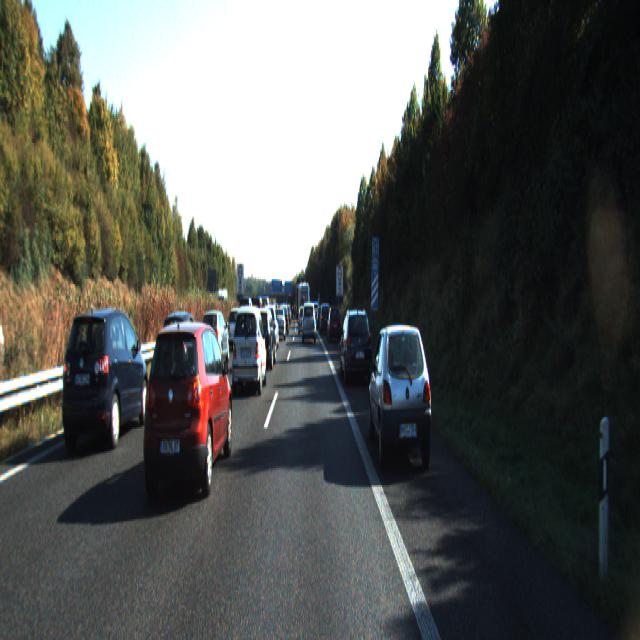Car: (136, 316, 234, 510), (58, 306, 150, 456), (368, 319, 434, 476), (230, 304, 268, 396), (341, 305, 372, 384), (249, 307, 277, 372), (201, 311, 230, 368), (227, 306, 247, 351), (302, 301, 316, 344), (328, 306, 342, 343), (273, 308, 286, 341), (320, 303, 331, 335)
